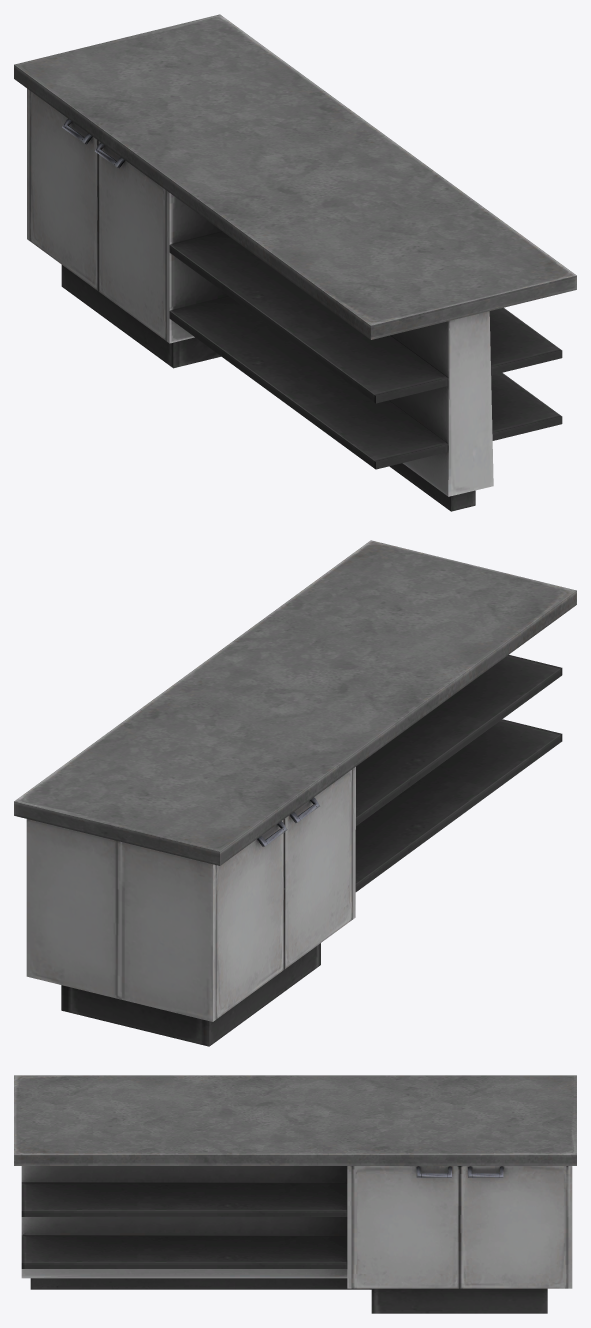
File: Kitchen05.FBX
The picture shows the model from 3 angles, top to bottom: view 1: azimuth 30°, elevation 25°; view 2: azimuth 150°, elevation 25°; view 3: azimuth 270°, elevation 25°; orthographic projection. The views are drawn at different scales.
Parts seen in each view (by area): view 1: Kitchen05; view 2: Kitchen05; view 3: Kitchen05.
Boxes of the visible parts, left/top/right/bottom form: Kitchen05: left=14, top=14, right=576, bottom=511; Kitchen05: left=14, top=540, right=576, bottom=1046; Kitchen05: left=14, top=1075, right=576, bottom=1313.
Size of the model in its own units: 1 by 1 by 3.
